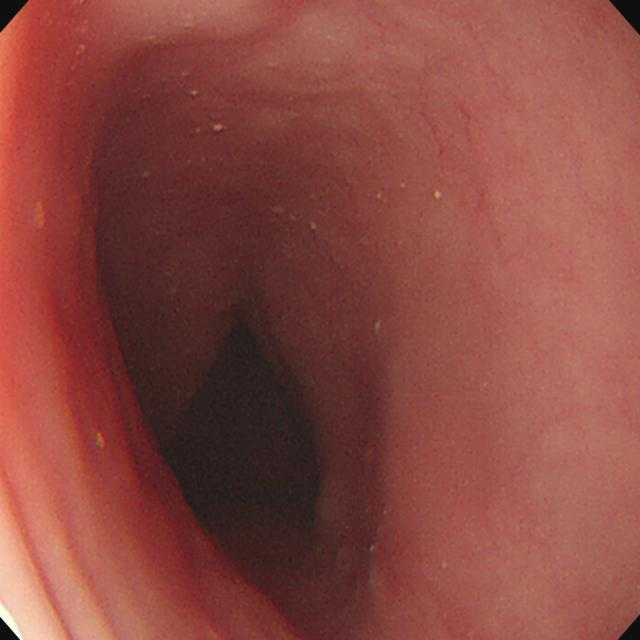E: (194, 325, 317, 520)
J: (212, 124, 229, 136), (432, 189, 444, 203)
